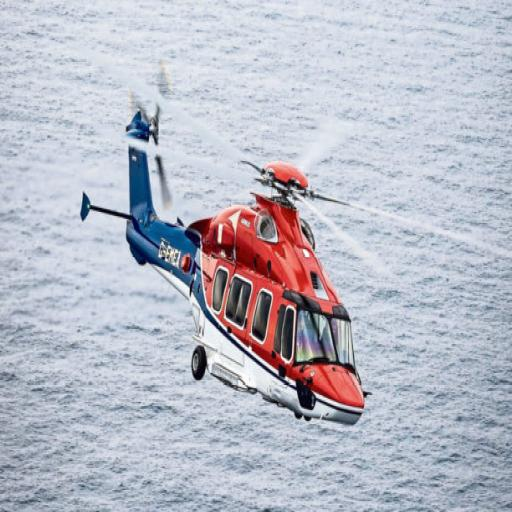helicopter: (75, 58, 373, 439)
